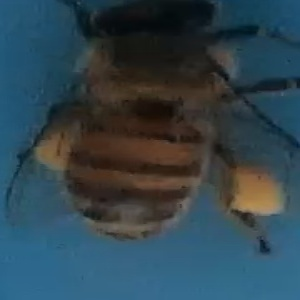bee: (18, 4, 293, 254)
